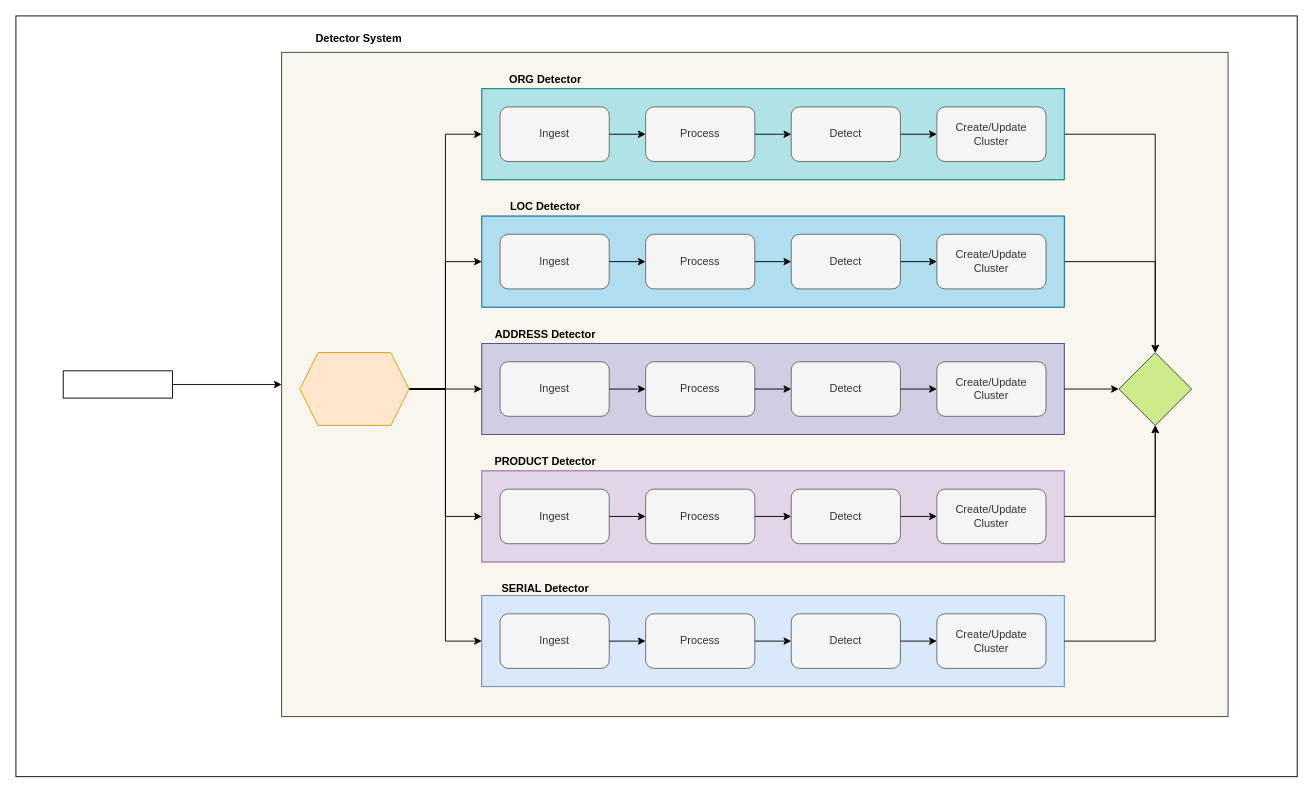
This 1313x793 diagram has some shape labels left out. The centre of each missing label's shape, as x and y in pixels:
Aggregate: the point at 1155,388
New Text: the point at 354,388
Text Stream: the point at 117,384
